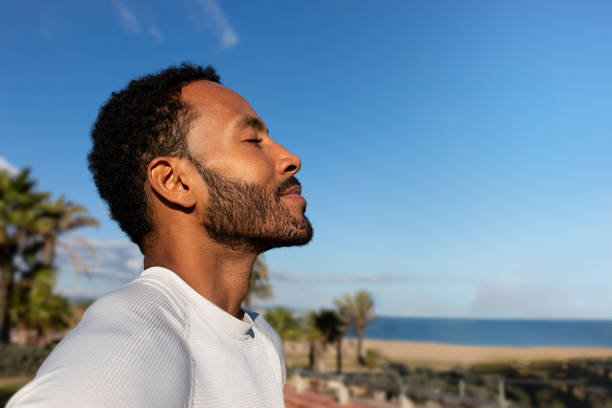Male: (47, 43, 327, 370)
